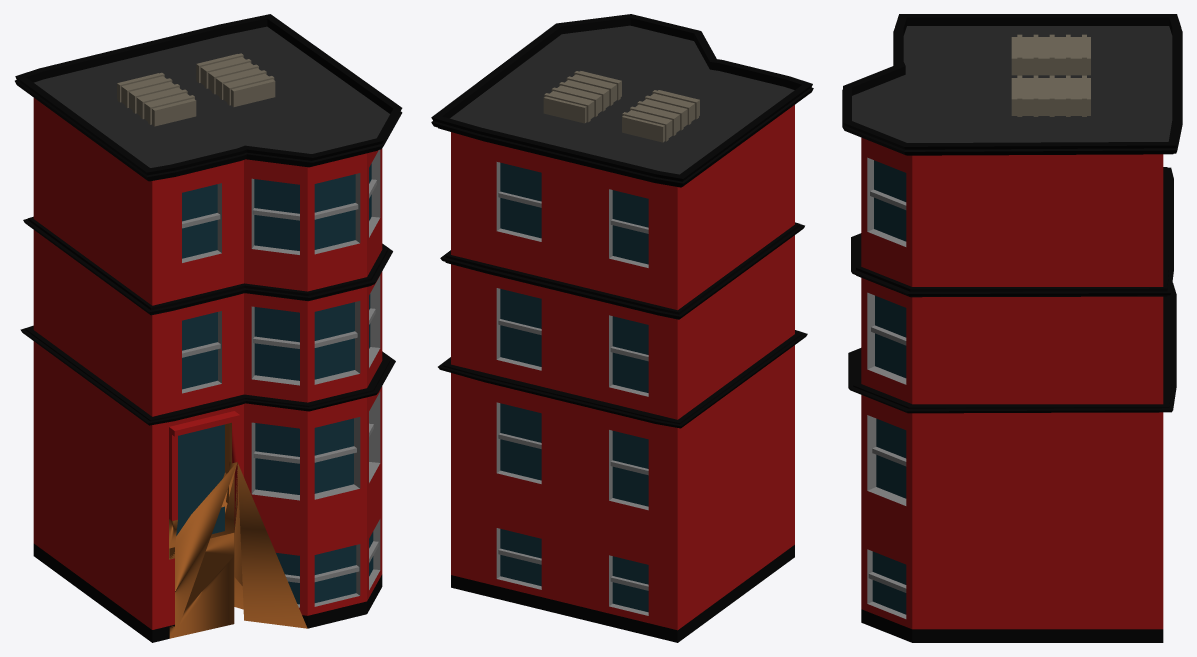
3 renders of one model, left to right at view 1: azimuth 30°, elevation 25°; view 2: azimuth 150°, elevation 25°; view 3: azimuth 270°, elevation 25°, orthographic. The views are drawn at different scales.
Parts seen in each view (by area): view 1: Cube.018; view 2: Cube.018; view 3: Cube.018.
Part boxes in pixels (x1,y1,x2,y2): Cube.018: (15,14,402,642); Cube.018: (431,14,813,642); Cube.018: (842,14,1182,642).
Size of the model in its own units: 468 by 844 by 506.
